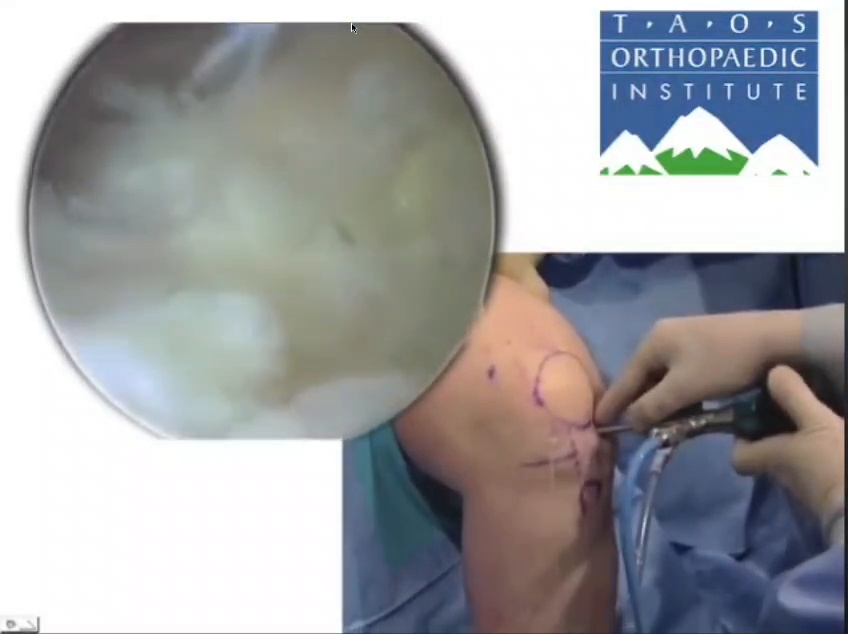arthroscope: (517, 263, 848, 482)
probe: (760, 357, 848, 627), (606, 416, 689, 597)
